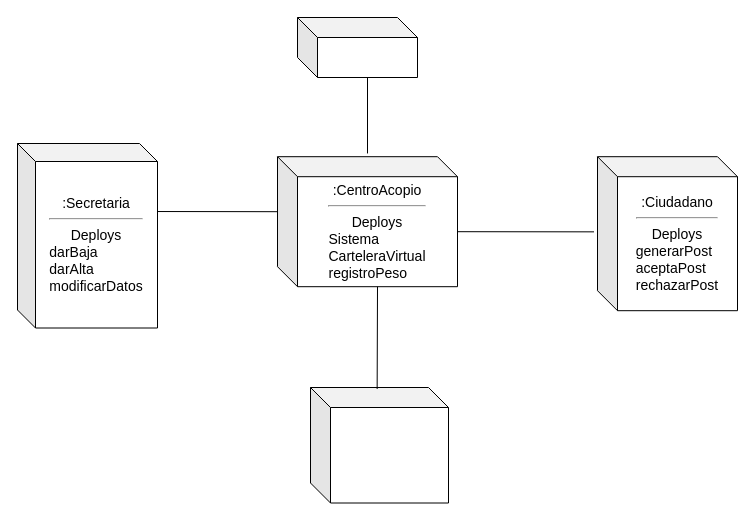
Image size: 755x521. Some labels were removed from this diagram. The centre of each missing label's shape, as x and y in pixels:
:Balanza Deploys pesarMateriales: the point at 379,444
:Server: the point at 357,47
